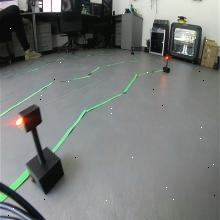red: (16, 105, 40, 135)
